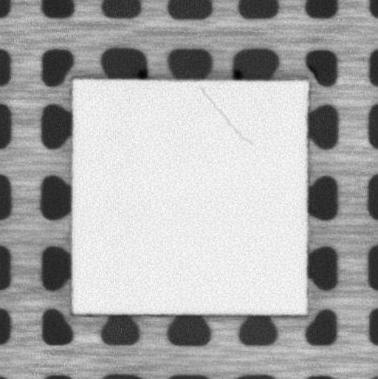DIE_CRACK: (199, 86, 254, 144)
